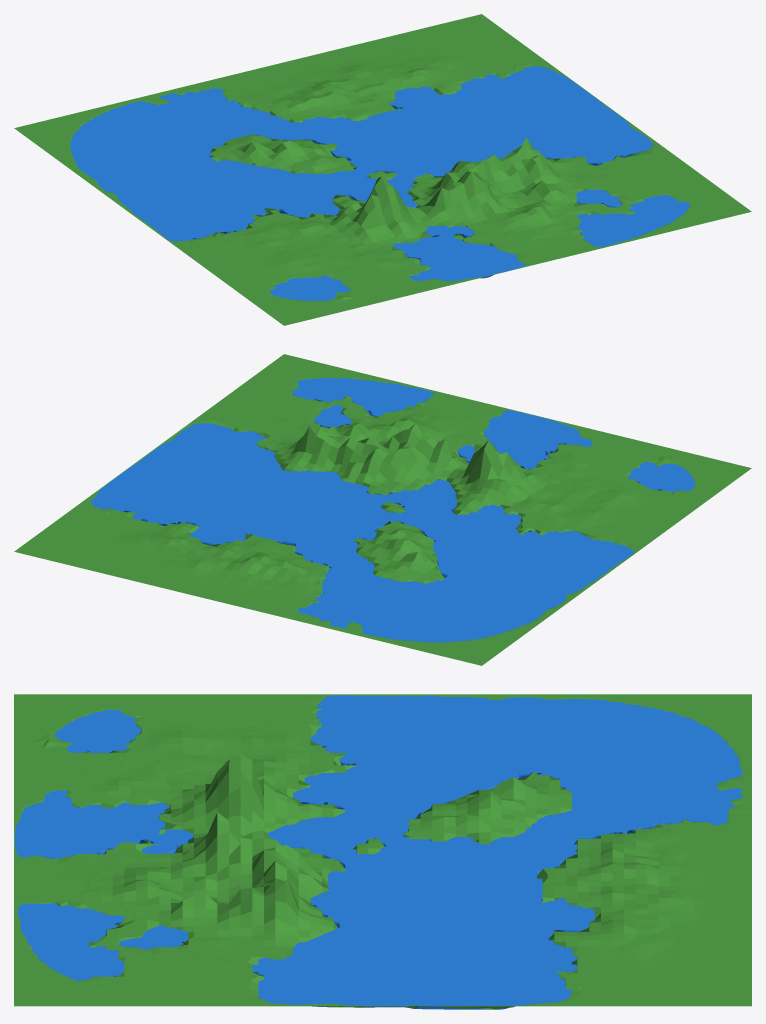
The picture shows the model from 3 angles, top to bottom: view 1: azimuth 30°, elevation 25°; view 2: azimuth 150°, elevation 25°; view 3: azimuth 270°, elevation 25°; orthographic projection. The views are drawn at different scales.
Visible parts, largest first — view 1: Landscape.001; view 2: Landscape.001; view 3: Landscape.001.
Boxes of the visible parts, <box> form: Landscape.001: <box>14,14,751,325</box>; Landscape.001: <box>14,354,751,665</box>; Landscape.001: <box>14,694,751,1009</box>.
Size of the model in its own units: 50 by 5.56 by 50.
